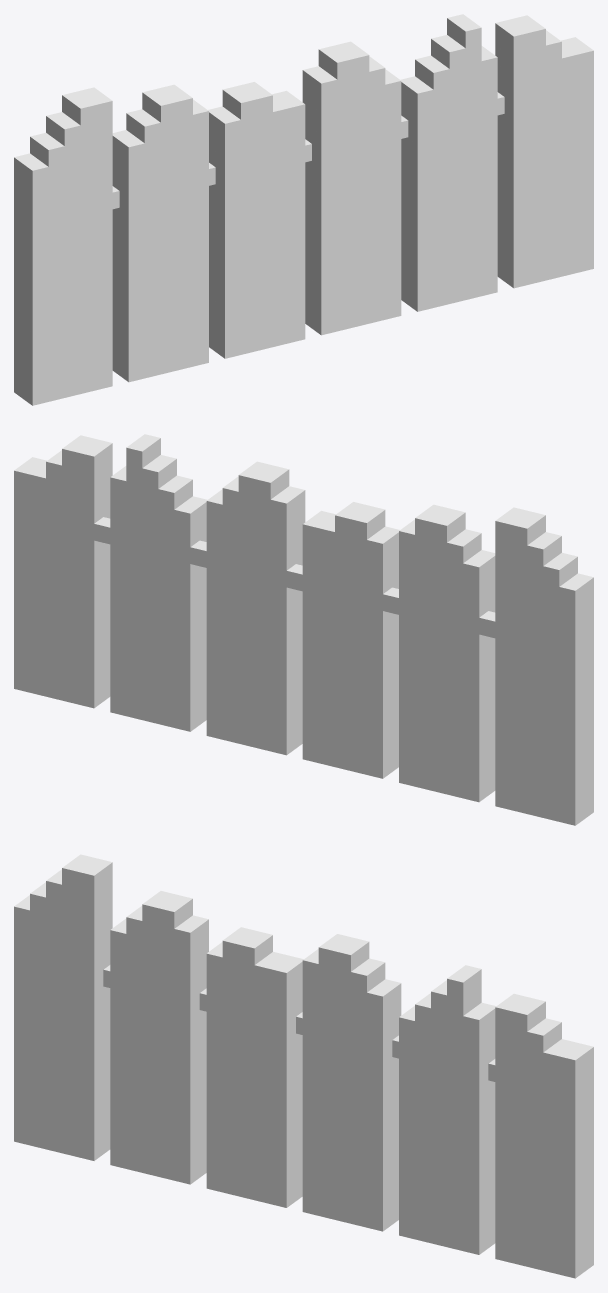
The model's file is Background_A_decowood_03.FBX.
3 renders of one model, top to bottom at view 1: azimuth 30°, elevation 25°; view 2: azimuth 150°, elevation 25°; view 3: azimuth 330°, elevation 25°, orthographic.
Parts seen in each view (by area): view 1: Load_A-28; view 2: Load_A-28; view 3: Load_A-28.
Boxes of the visible parts, x1,y1,x2,y2 form: Load_A-28: [14, 14, 593, 405]; Load_A-28: [14, 434, 593, 825]; Load_A-28: [14, 854, 593, 1278].
Bounding box in the file's own units: 3.5 × 1.7 × 0.2.
Materials: 1 (1 with a texture image).
